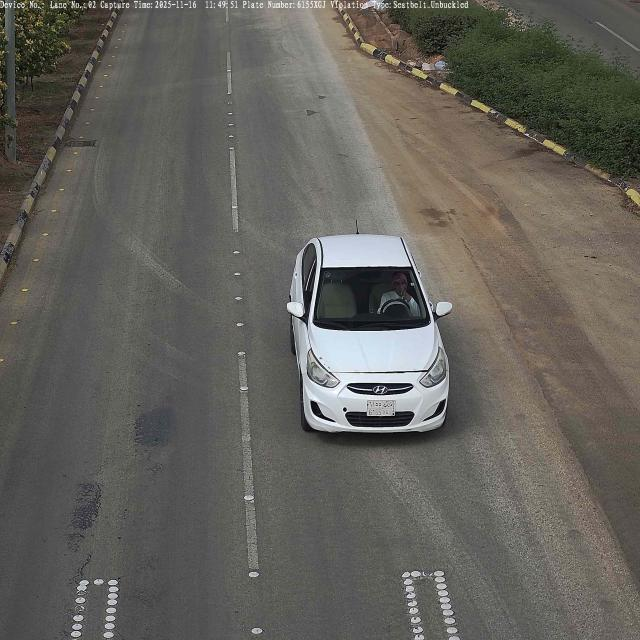person_without_seatbelt: (375, 273, 414, 314)
